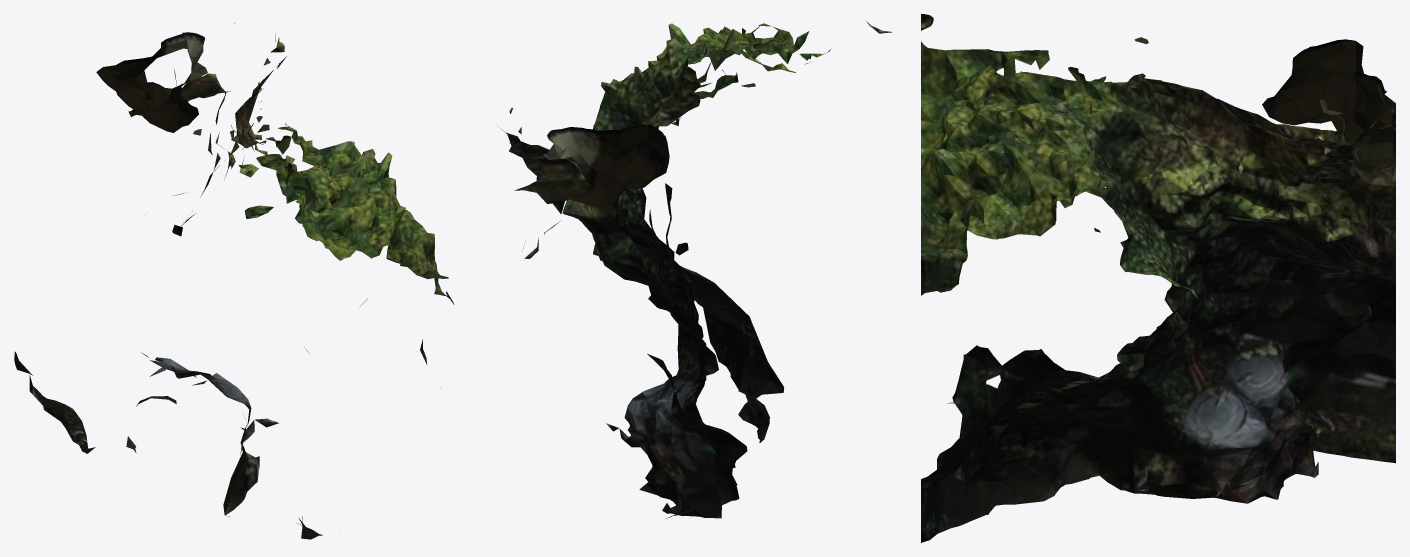
The picture shows the model from 3 angles, left to right: view 1: azimuth 30°, elevation 25°; view 2: azimuth 150°, elevation 25°; view 3: azimuth 270°, elevation 25°; orthographic projection. The views are drawn at different scales.
Size of the model in its own units: 2.31 by 3.35 by 3.35.
4 materials, 4 textured.
